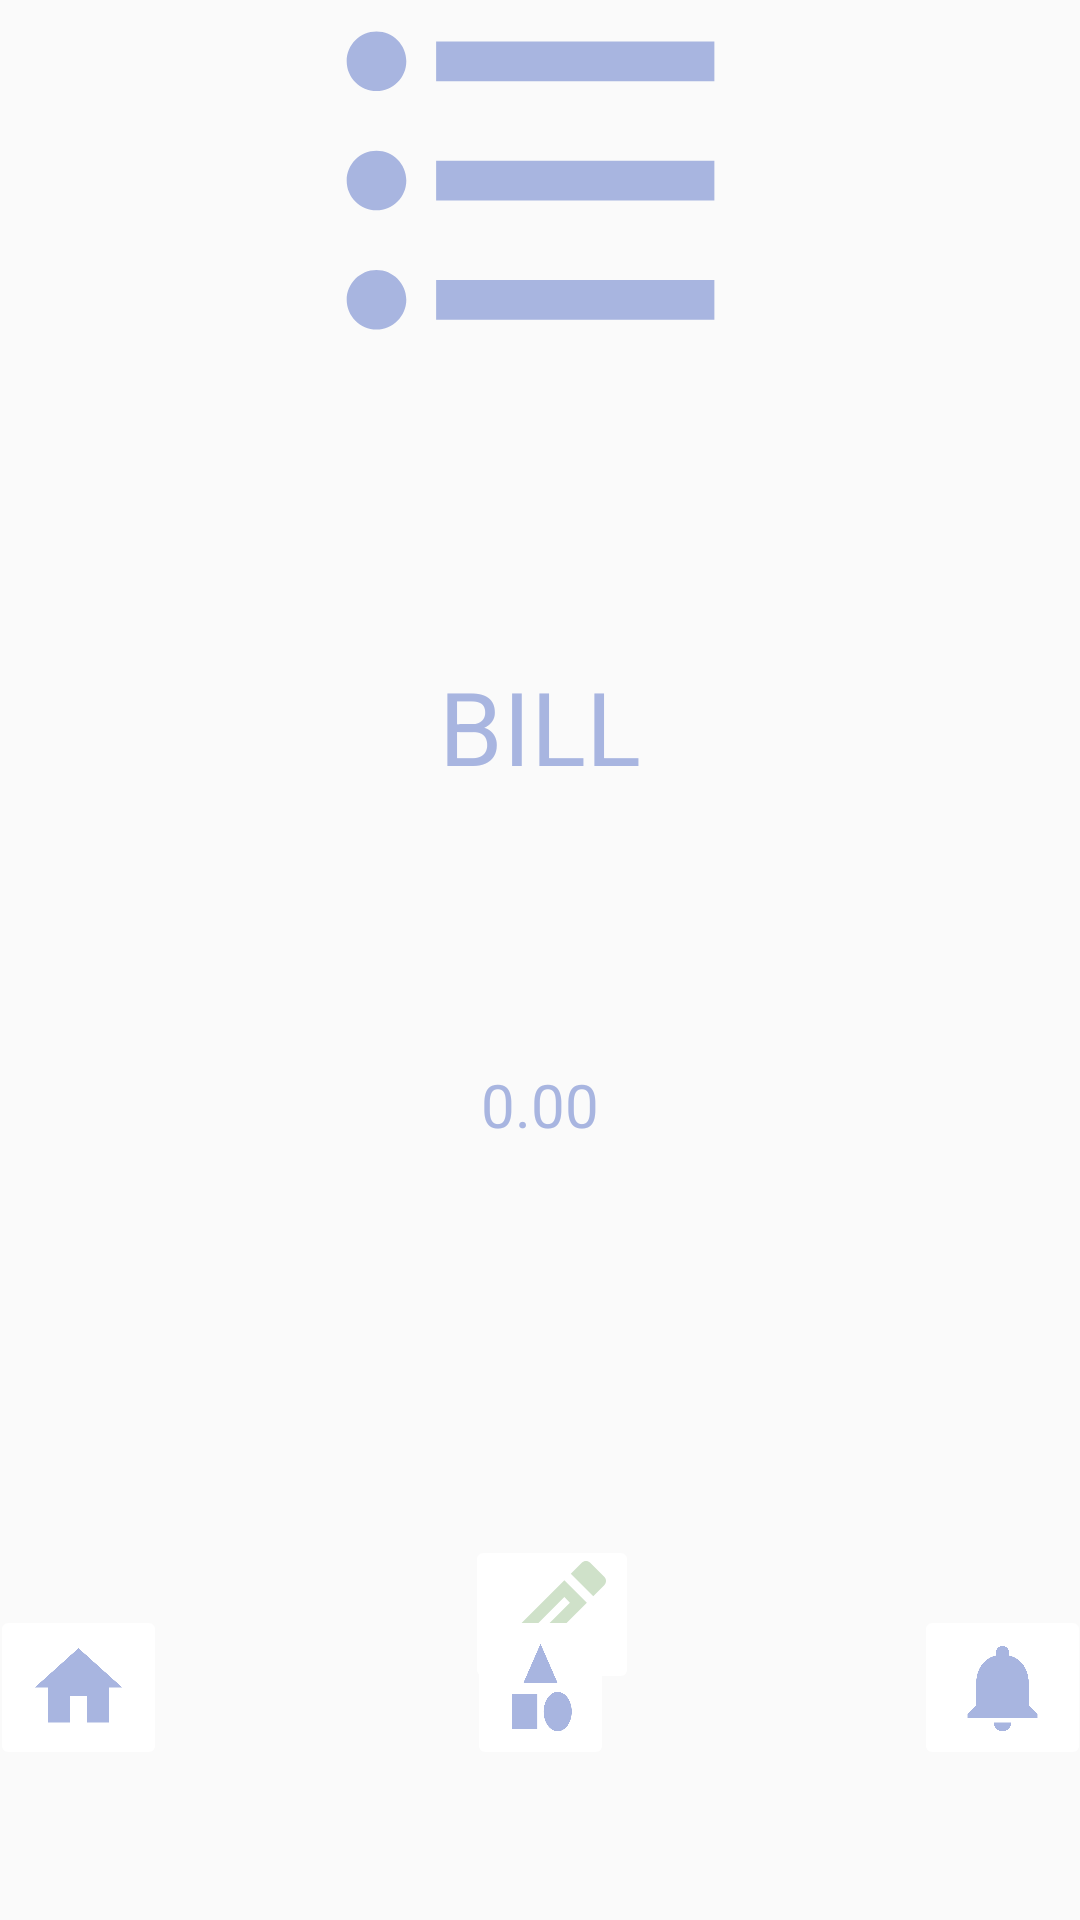

Locate icon controls on the screen. Image size 1080x1920, boxes as (x1, y1, x2, y2).
HOME: (35, 1648, 122, 1723)
NOTIFICATION: (967, 1646, 1038, 1731)
